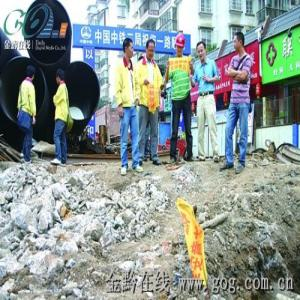none: (233, 30, 247, 55), (123, 36, 135, 62), (145, 38, 157, 63), (196, 41, 207, 64), (25, 63, 37, 84), (55, 66, 66, 86)
red: (174, 31, 187, 60)
